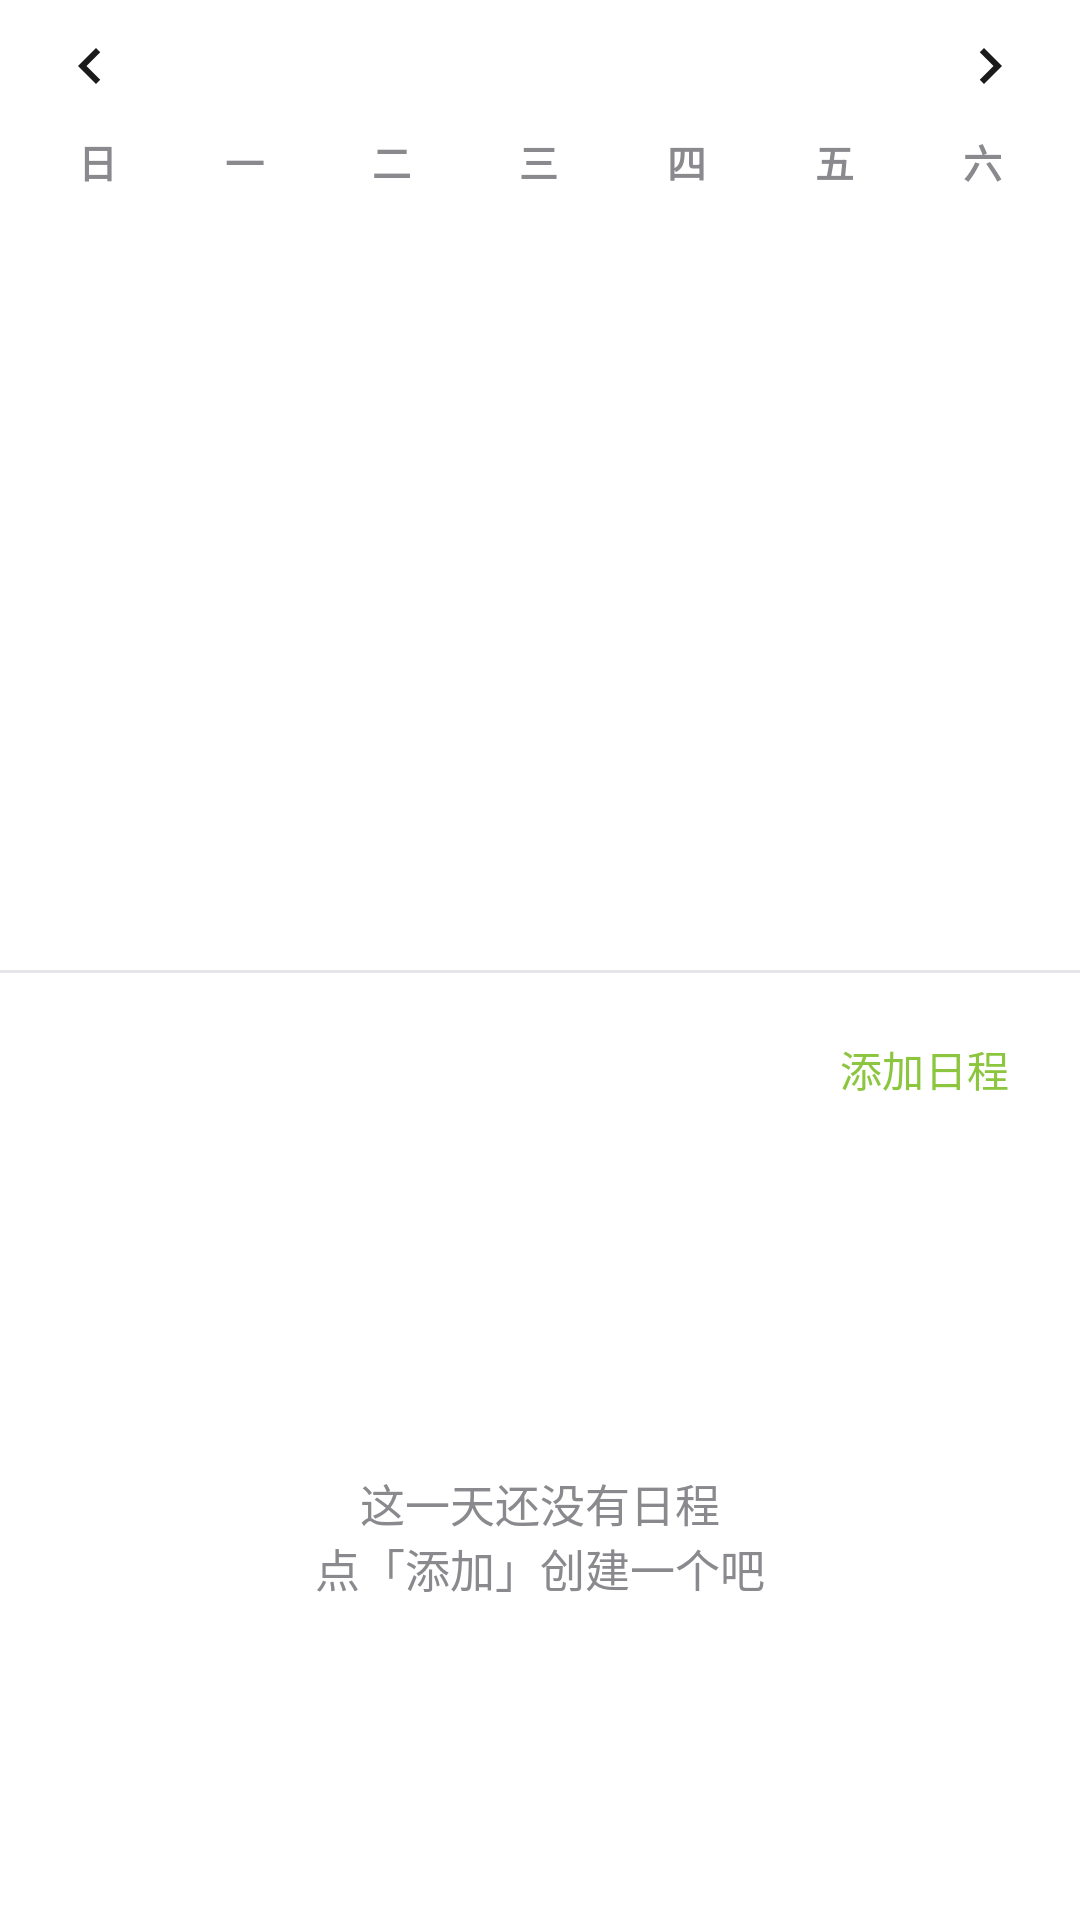

Locate icon controls on the screen. Image size 1080px×1920px, boxes as bbox=[x1, y1, x2, y2].
上个月: bbox=[78, 48, 100, 84]
下个月: bbox=[980, 48, 1002, 84]
